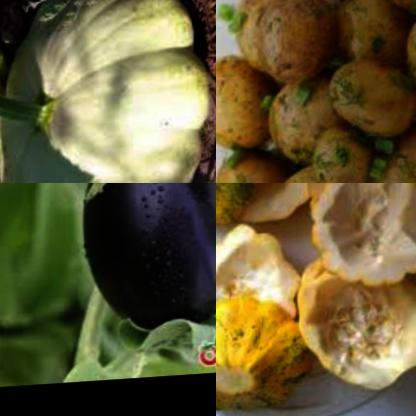eggplant: (77, 183, 216, 355)
potato: (225, 0, 330, 86), (323, 56, 414, 141), (322, 0, 404, 74), (216, 58, 273, 159), (264, 74, 322, 166), (308, 121, 373, 183), (264, 153, 385, 183), (216, 137, 293, 183), (368, 114, 416, 183), (389, 0, 416, 112)
squash-patisson: (0, 0, 203, 183), (285, 246, 416, 393), (300, 183, 416, 287), (216, 228, 307, 355), (216, 295, 307, 416), (224, 183, 308, 240)
